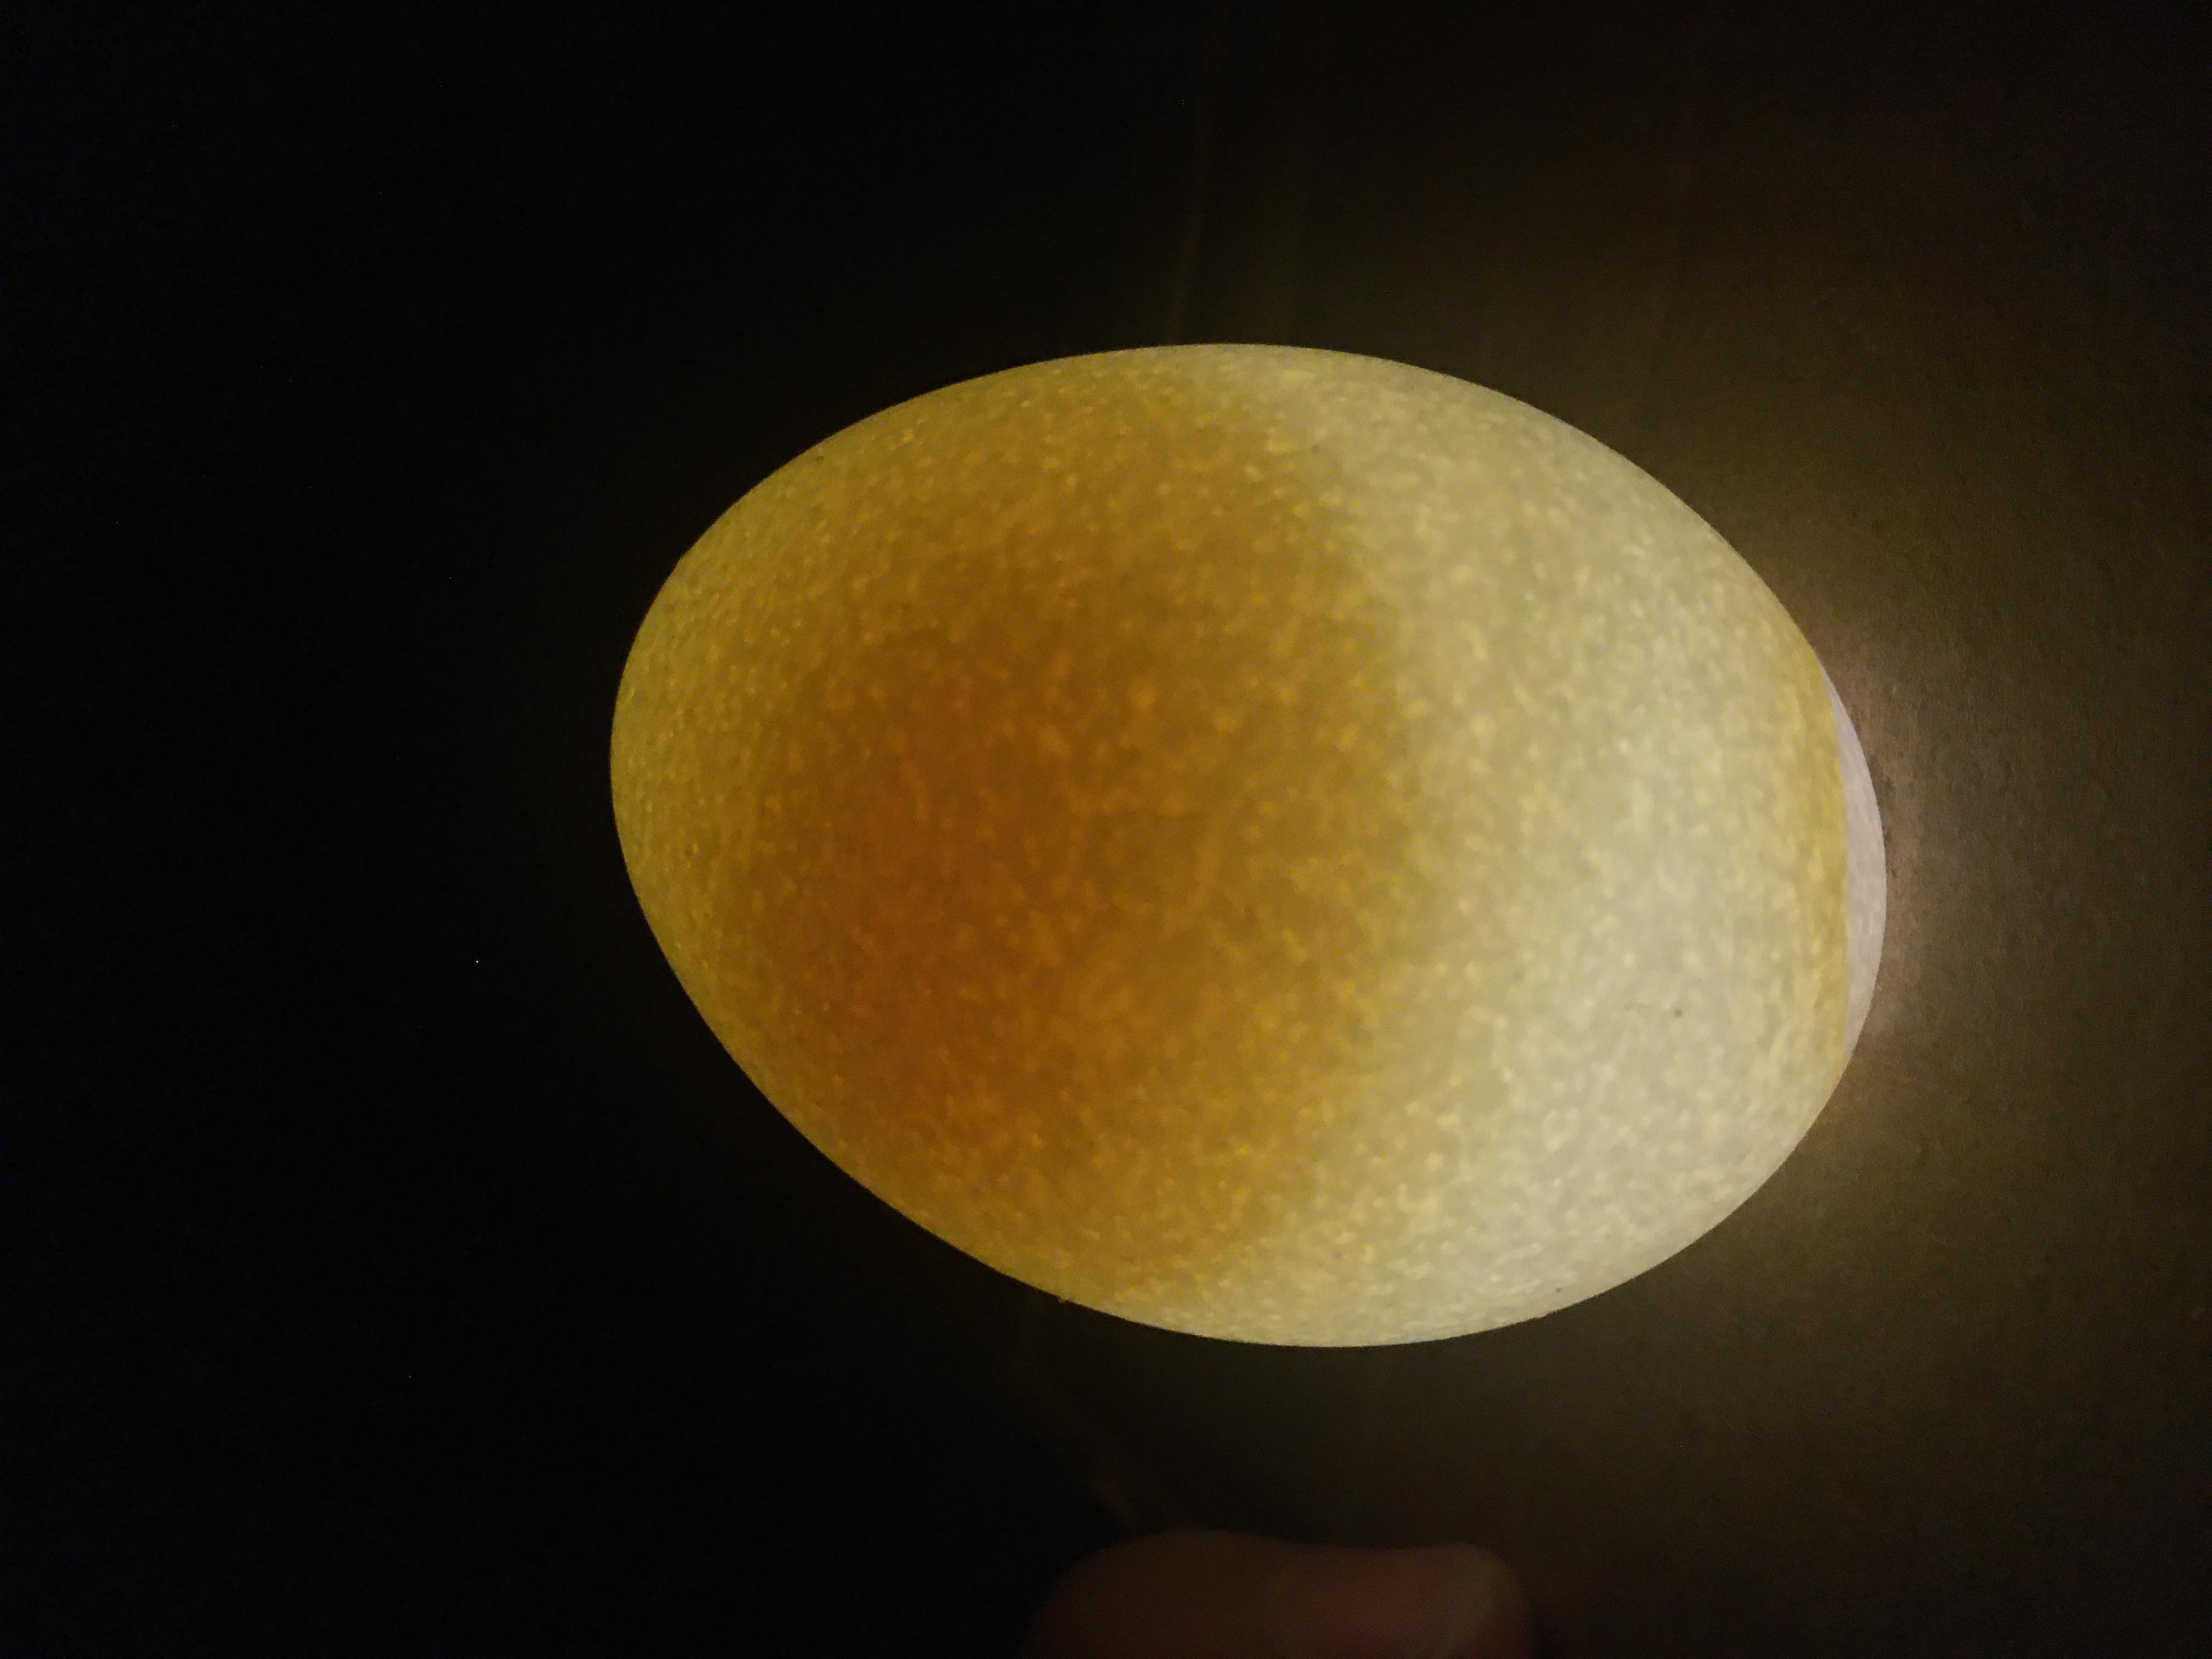A - Good: (399, 436, 1778, 1452)
